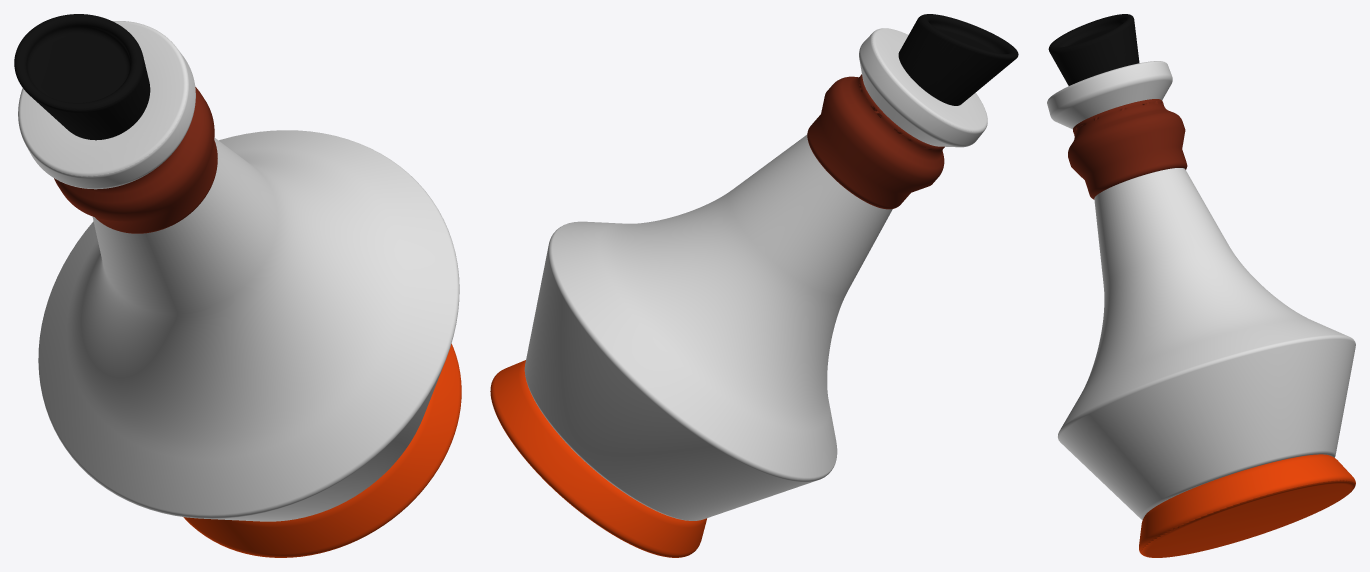
The model's file is eye filled poison.fbx.
3 renders of one model, left to right at view 1: azimuth 30°, elevation 25°; view 2: azimuth 150°, elevation 25°; view 3: azimuth 270°, elevation 25°, orthographic. The views are drawn at different scales.
Parts seen in each view (by area): view 1: Cylinder_Cylinder_047, Cylinder_002_Cylinder_049, Cylinder_001_Cylinder_048, Cylinder_004_Cylinder_051; view 2: Cylinder_Cylinder_047, Cylinder_001_Cylinder_048, Cylinder_004_Cylinder_051, Cylinder_002_Cylinder_049; view 3: Cylinder_Cylinder_047, Cylinder_001_Cylinder_048, Cylinder_004_Cylinder_051, Cylinder_002_Cylinder_049.
Boxes of the visible parts, x1,y1,x2,y2 form: Cylinder_Cylinder_047: [18, 21, 459, 521]; Cylinder_002_Cylinder_049: [14, 14, 150, 140]; Cylinder_001_Cylinder_048: [183, 343, 461, 557]; Cylinder_004_Cylinder_051: [54, 87, 217, 233]; Cylinder_Cylinder_047: [524, 28, 987, 520]; Cylinder_001_Cylinder_048: [490, 360, 706, 557]; Cylinder_004_Cylinder_051: [807, 74, 944, 209]; Cylinder_002_Cylinder_049: [898, 14, 1018, 105]; Cylinder_Cylinder_047: [1047, 61, 1355, 519]; Cylinder_001_Cylinder_048: [1139, 454, 1355, 557]; Cylinder_004_Cylinder_051: [1068, 99, 1187, 199]; Cylinder_002_Cylinder_049: [1048, 14, 1139, 85].
Bounding box in the file's own units: 5.59 × 6.61 × 4.13.
